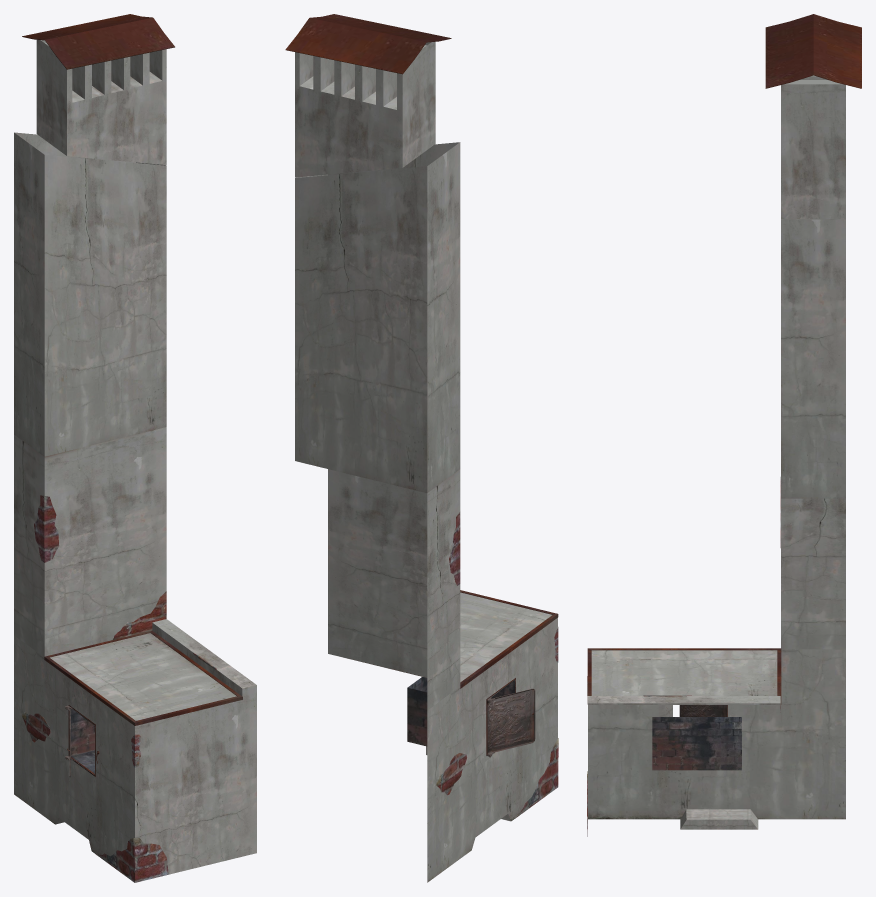
The model's file is stove_2.FBX.
The picture shows the model from 3 angles, left to right: view 1: azimuth 30°, elevation 25°; view 2: azimuth 150°, elevation 25°; view 3: azimuth 270°, elevation 25°; orthographic projection. The views are drawn at different scales.
Parts seen in each view (by area): view 1: stove_2; view 2: stove_2; view 3: stove_2.
Boxes of the visible parts, left/top/right/bottom form: stove_2: left=14, top=14, right=256, bottom=882; stove_2: left=285, top=14, right=558, bottom=882; stove_2: left=587, top=14, right=861, bottom=836.
Size of the model in its own units: 104 by 515 by 158.
